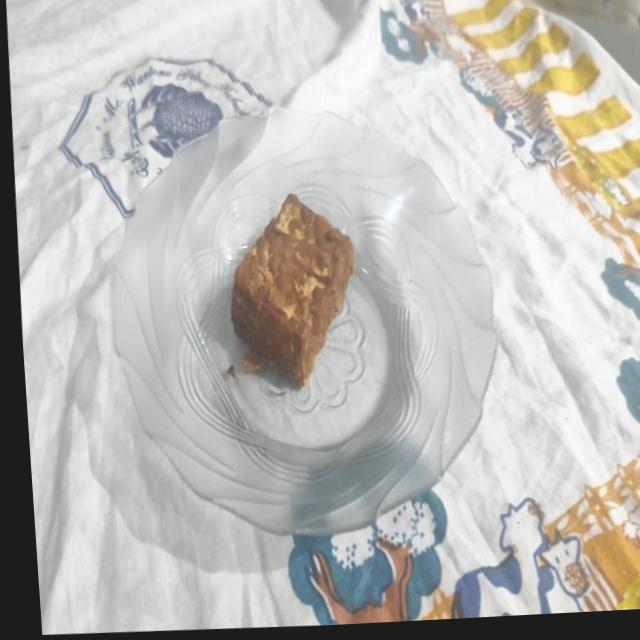tempe_goreng: (231, 194, 354, 385)
